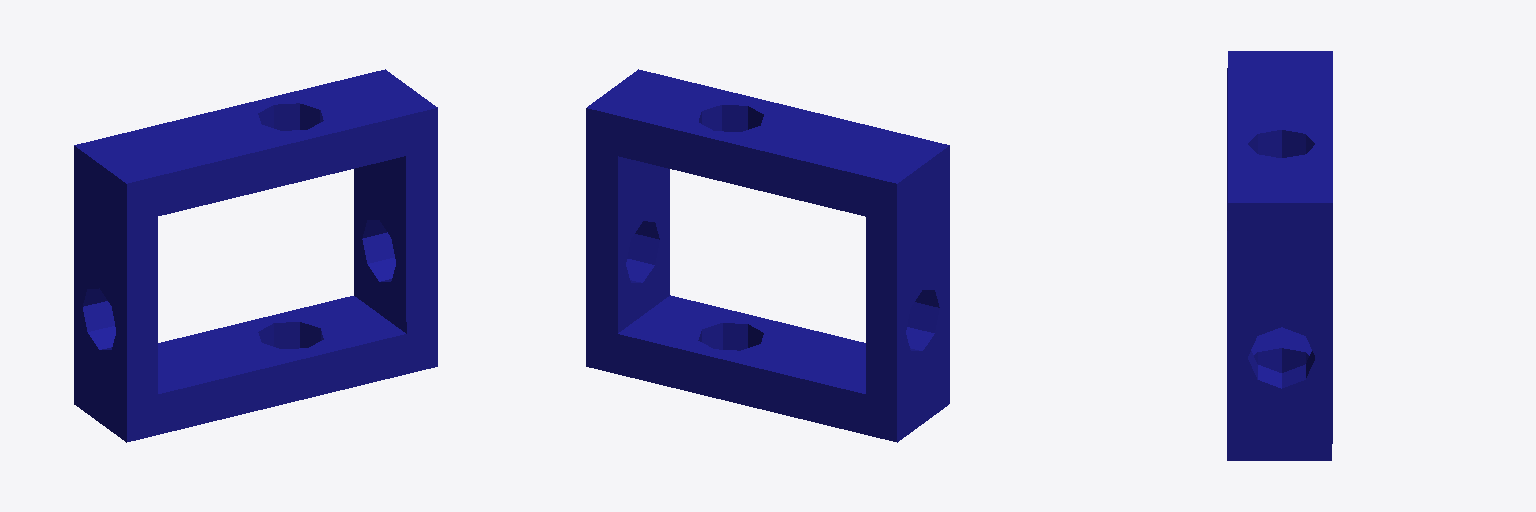
Rendered from R_WFE.obj.
The picture shows the model from 3 angles: view 1: azimuth 30°, elevation 25°; view 2: azimuth 150°, elevation 25°; view 3: azimuth 270°, elevation 25°; orthographic projection.
Parts seen in each view (by area): view 1: R_WFE.1_ShapeIndexedFaceS.056; view 2: R_WFE.1_ShapeIndexedFaceS.056; view 3: R_WFE.1_ShapeIndexedFaceS.056.
Part boxes in pixels (x1,y1,x2,y2): R_WFE.1_ShapeIndexedFaceS.056: (74, 69, 437, 442); R_WFE.1_ShapeIndexedFaceS.056: (586, 69, 949, 442); R_WFE.1_ShapeIndexedFaceS.056: (1227, 51, 1332, 460).
Size of the model in its own units: 2.28 by 1.81 by 0.6682.